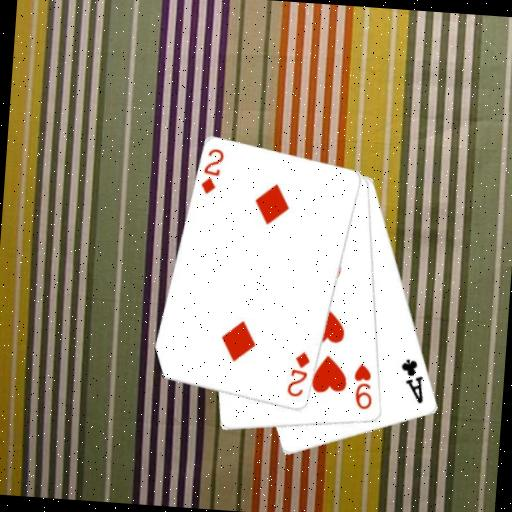2D: (198, 145, 227, 197), (284, 348, 312, 400)
9H: (350, 361, 377, 413)
AC: (396, 355, 428, 406)
